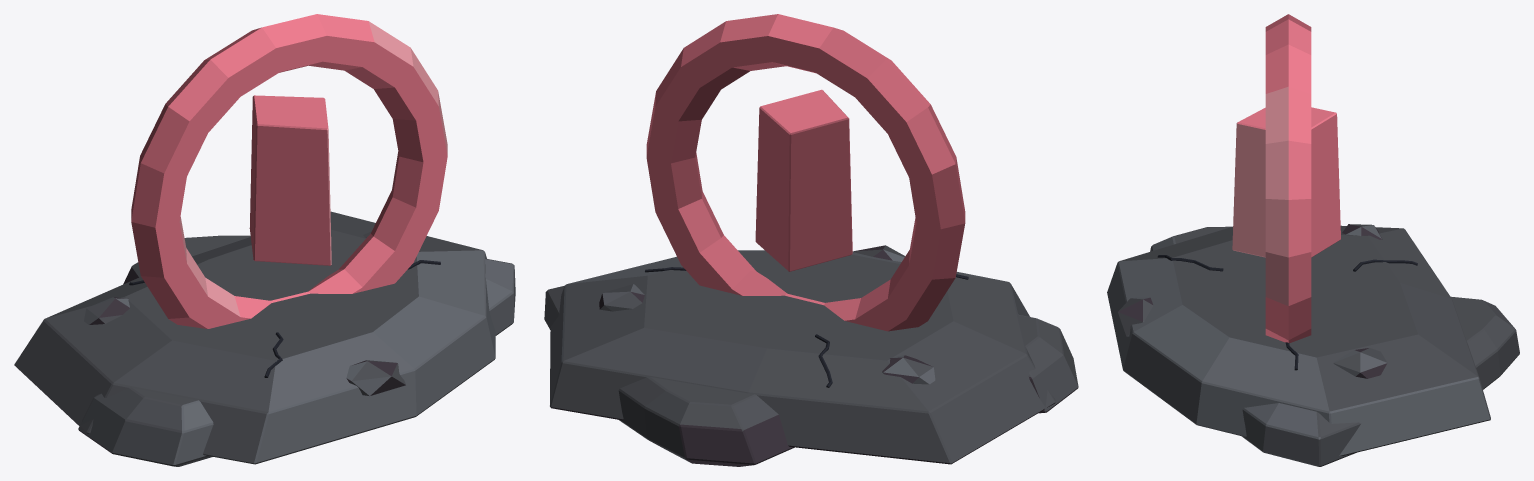
Rendered from BH_ORE_O17_Nucleo_Infernal_V02.glb.
The picture shows the model from 3 angles, left to right: view 1: azimuth 30°, elevation 25°; view 2: azimuth 150°, elevation 25°; view 3: azimuth 270°, elevation 25°; orthographic projection. The views are drawn at different scales.
Parts seen in each view (by area): view 1: Bedrock | primary.003, Enclosing stone / obsidian halo.003, Square infernal core.003, Bedrock | shoulder 1.003, Bedrock | shoulder 2.003, O17 | V02 embedded stone ledge.005, Bedrock | shoulder 3.003, O17 | V02 embedded stone ledge.004; view 2: Bedrock | primary.003, Enclosing stone / obsidian halo.003, Square infernal core.003, Bedrock | shoulder 3.003, Bedrock | shoulder 1.003, O17 | V02 embedded stone ledge.004, O17 | V02 embedded stone ledge.003, Bedrock | shoulder 2.003; view 3: Bedrock | primary.003, Enclosing stone / obsidian halo.003, Square infernal core.003, Bedrock | shoulder 2.003, Bedrock | shoulder 3.003, O17 | V02 embedded stone ledge.003, O17 | V02 embedded stone ledge.005, Bedrock | shoulder 1.003.
Part boxes in pixels (x1=…): Bedrock | primary.003: x1=14, y1=211, x2=495, y2=464; Enclosing stone / obsidian halo.003: x1=131, y1=14, x2=447, y2=328; Square infernal core.003: x1=249, y1=95, x2=331, y2=265; Bedrock | shoulder 1.003: x1=78, y1=387, x2=213, y2=466; Bedrock | shoulder 2.003: x1=485, y1=258, x2=515, y2=335; O17 | V02 embedded stone ledge.005: x1=346, y1=360, x2=405, y2=395; Bedrock | shoulder 3.003: x1=123, y1=235, x2=250, y2=284; O17 | V02 embedded stone ledge.004: x1=84, y1=297, x2=129, y2=324; Bedrock | primary.003: x1=550, y1=250, x2=1055, y2=464; Enclosing stone / obsidian halo.003: x1=646, y1=14, x2=965, y2=331; Square infernal core.003: x1=755, y1=89, x2=852, y2=271; Bedrock | shoulder 3.003: x1=618, y1=377, x2=794, y2=466; Bedrock | shoulder 1.003: x1=1018, y1=314, x2=1078, y2=413; O17 | V02 embedded stone ledge.004: x1=882, y1=355, x2=935, y2=384; O17 | V02 embedded stone ledge.003: x1=599, y1=284, x2=644, y2=311; Bedrock | shoulder 2.003: x1=544, y1=285, x2=564, y2=329; Bedrock | primary.003: x1=1107, y1=225, x2=1490, y2=455; Enclosing stone / obsidian halo.003: x1=1265, y1=14, x2=1311, y2=343; Square infernal core.003: x1=1232, y1=107, x2=1340, y2=257; Bedrock | shoulder 2.003: x1=1242, y1=403, x2=1360, y2=466; Bedrock | shoulder 3.003: x1=1451, y1=296, x2=1519, y2=389; O17 | V02 embedded stone ledge.003: x1=1333, y1=348, x2=1387, y2=378; O17 | V02 embedded stone ledge.005: x1=1118, y1=297, x2=1153, y2=336; Bedrock | shoulder 1.003: x1=1150, y1=226, x2=1231, y2=251.
Bounding box in the file's own units: 3.02 × 2.22 × 2.45.
